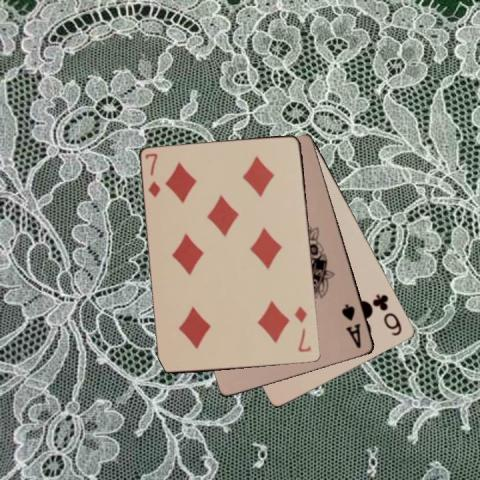6c: (370, 291, 404, 338)
7d: (292, 304, 313, 354), (143, 150, 162, 199)
As: (338, 301, 362, 350)
